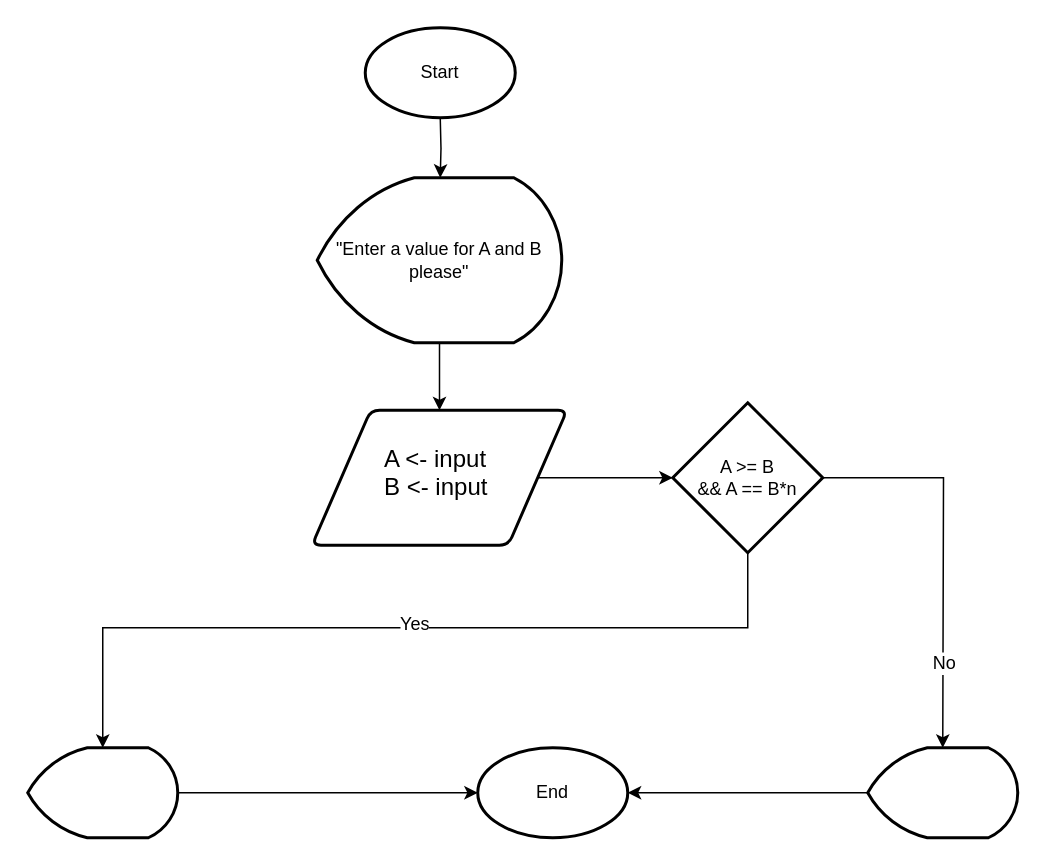
Image size: 1044x864. Some labels were removed from this diagram. The centre of each missing label's shape, as x and y in pixels:
"Divisible": pixel 102 792
"Not Divisible": pixel 942 792
